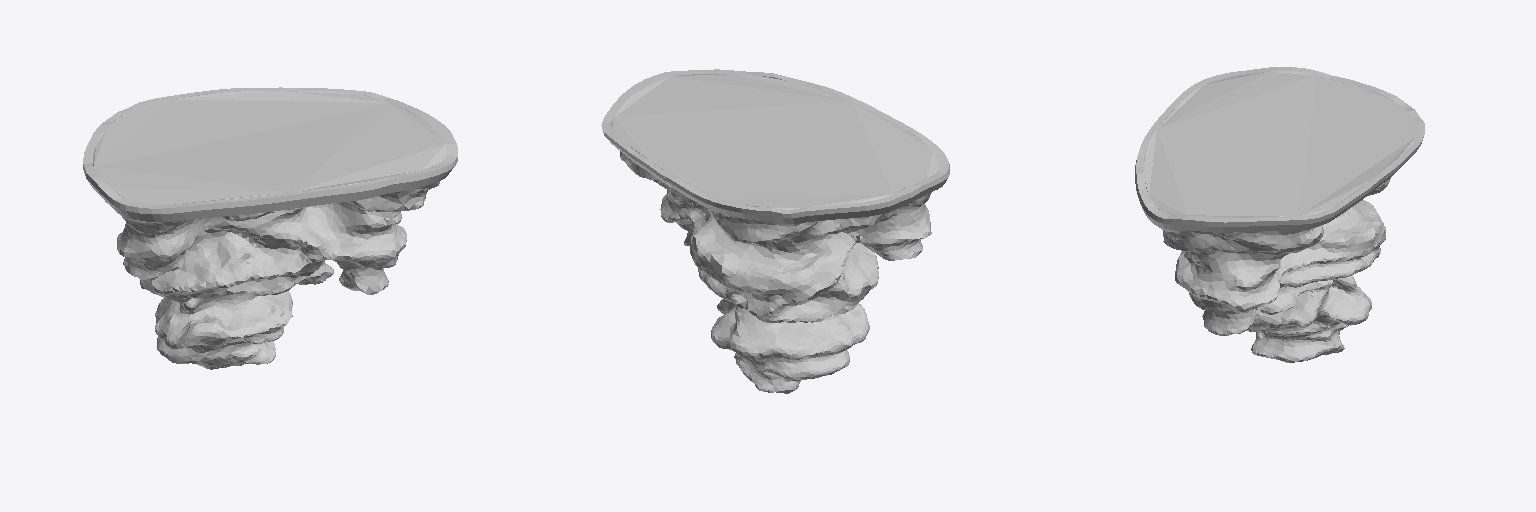
File: FloatingIsland2.obj
3 renders of one model, left to right at view 1: azimuth 30°, elevation 25°; view 2: azimuth 150°, elevation 25°; view 3: azimuth 270°, elevation 25°, orthographic.
Visible parts, largest first — view 1: LargeCaveRock; view 2: LargeCaveRock; view 3: LargeCaveRock.
Part boxes in pixels (left/top/right/bottom): LargeCaveRock: left=83, top=87, right=457, bottom=369; LargeCaveRock: left=601, top=69, right=949, bottom=393; LargeCaveRock: left=1135, top=67, right=1424, bottom=362.
Size of the model in its own units: 4.4 by 3.02 by 3.45.